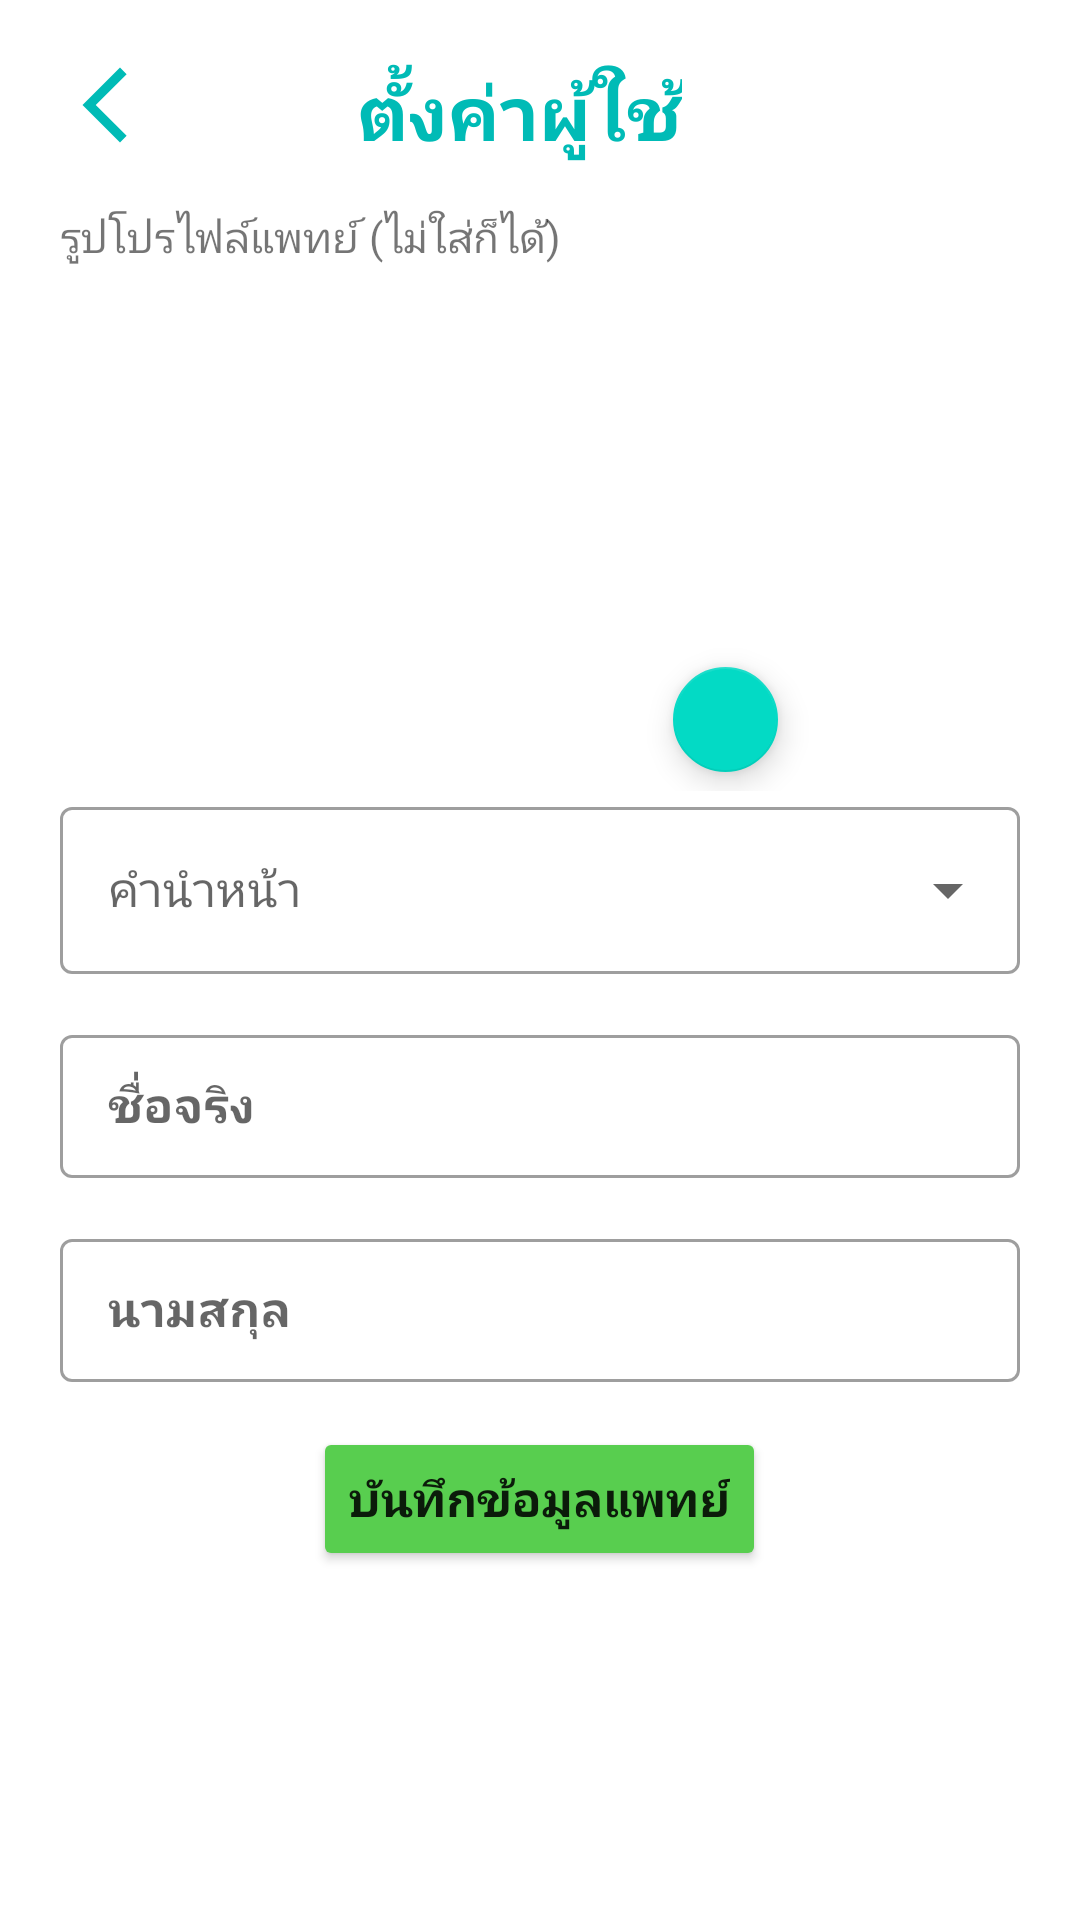

Where icons sit on this 1080px x 1920px app screen, as (x1, y1, x2, y2):
arrow back: (82, 67, 127, 143)
